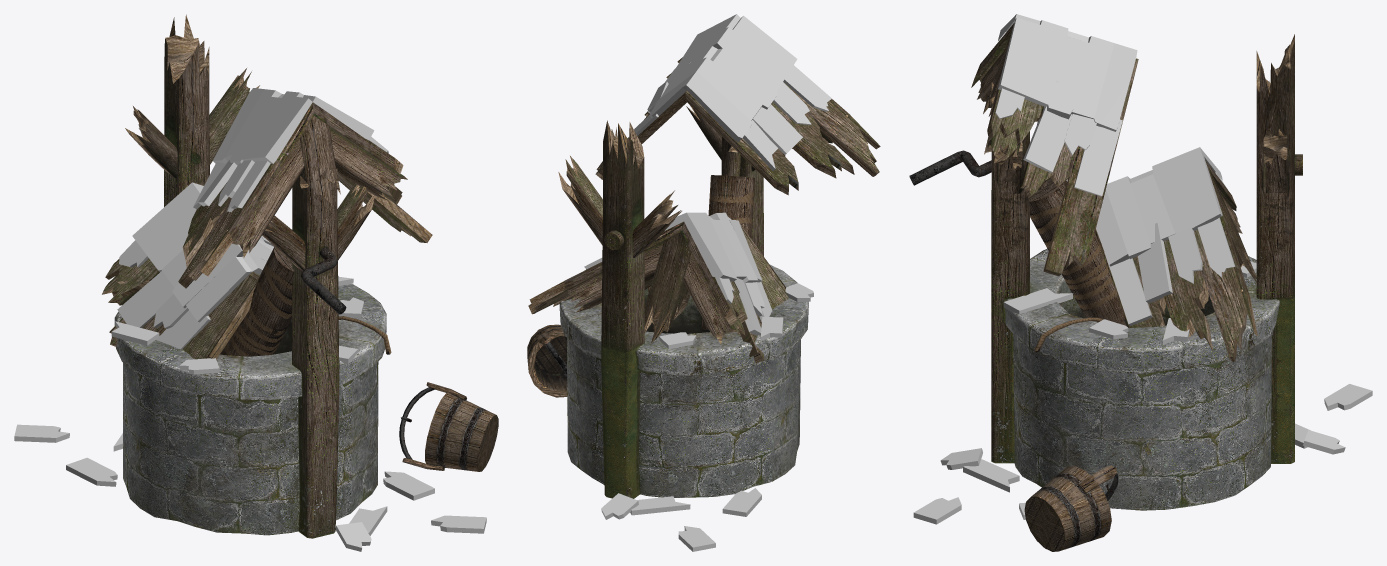
The model's file is CA_Well_Destruction_Stage3.fbx.
The picture shows the model from 3 angles, left to right: view 1: azimuth 30°, elevation 25°; view 2: azimuth 150°, elevation 25°; view 3: azimuth 270°, elevation 25°; orthographic projection. The views are drawn at different scales.
Visible parts, largest first — view 1: CA_Well_Destruction_Stage3; view 2: CA_Well_Destruction_Stage3; view 3: CA_Well_Destruction_Stage3.
Part boxes in pixels (x1,y1,x2,y2): CA_Well_Destruction_Stage3: (14,14,498,551); CA_Well_Destruction_Stage3: (527,14,880,551); CA_Well_Destruction_Stage3: (909,14,1372,551).
Bounding box in the file's own units: 229 × 268 × 254.
